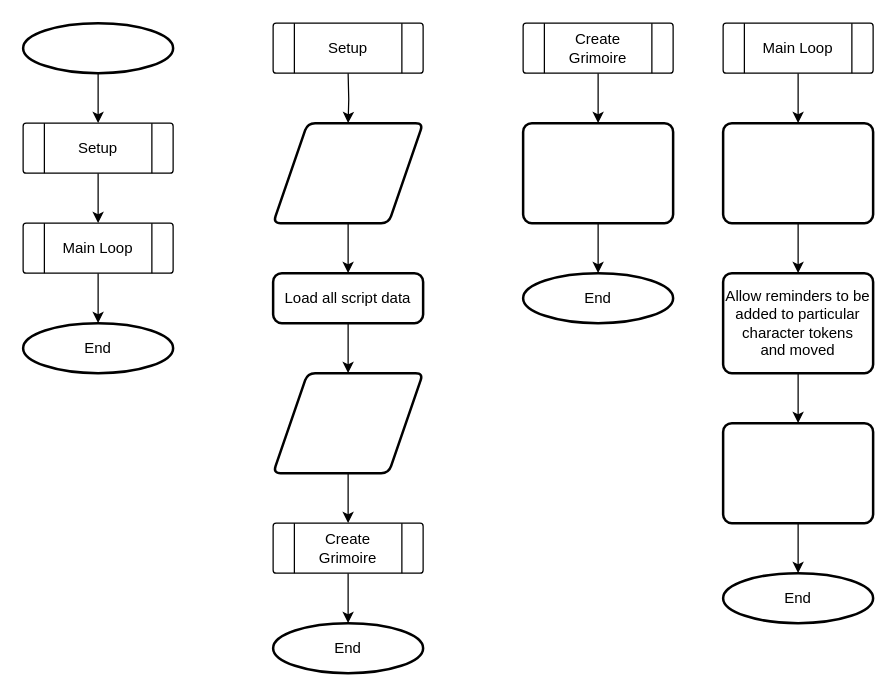
Some shapes in this 895 by 695 pixel diagram are drawn without their labels. Each missing label, with the centre of its shape:
Allow character tokens to be clicked on and changed: [797,172]
INPUT Characters to be used: [347,422]
INPUT script name / file player count: [347,172]
Open Settings if corresponding button pressed: [797,472]
Randomly place all selected characters in circle: [597,172]
Start: [97,47]
